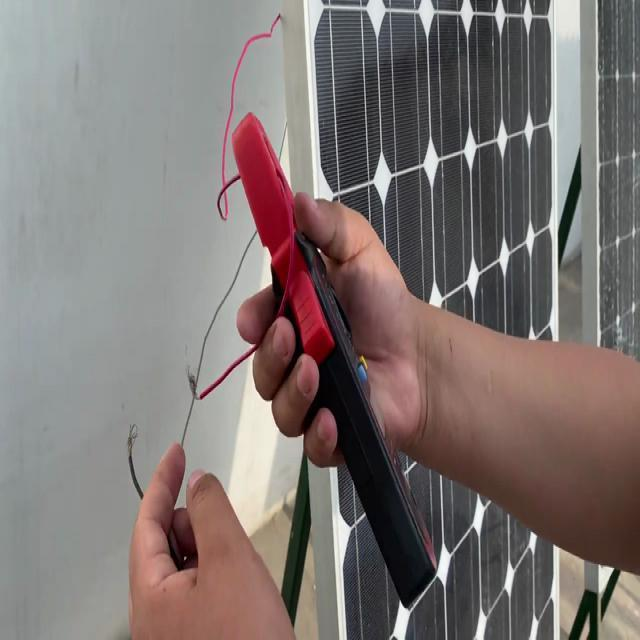Normal Solar Panel: (312, 2, 557, 339), (349, 469, 552, 639)
